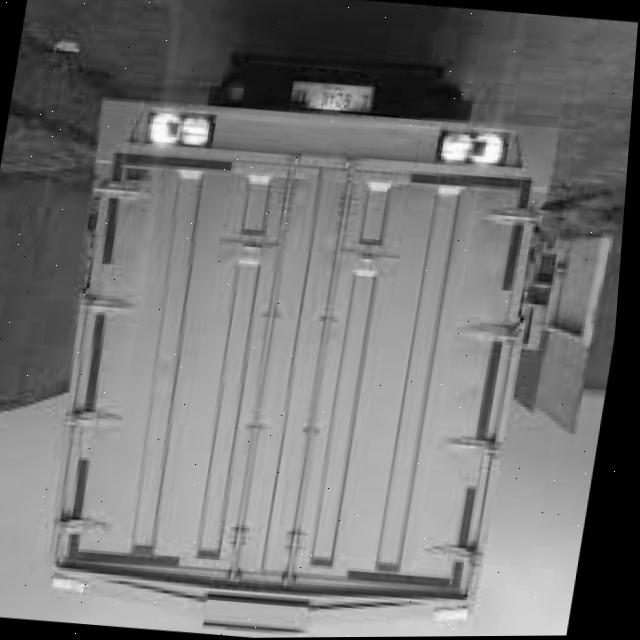truck: (13, 65, 576, 640)
